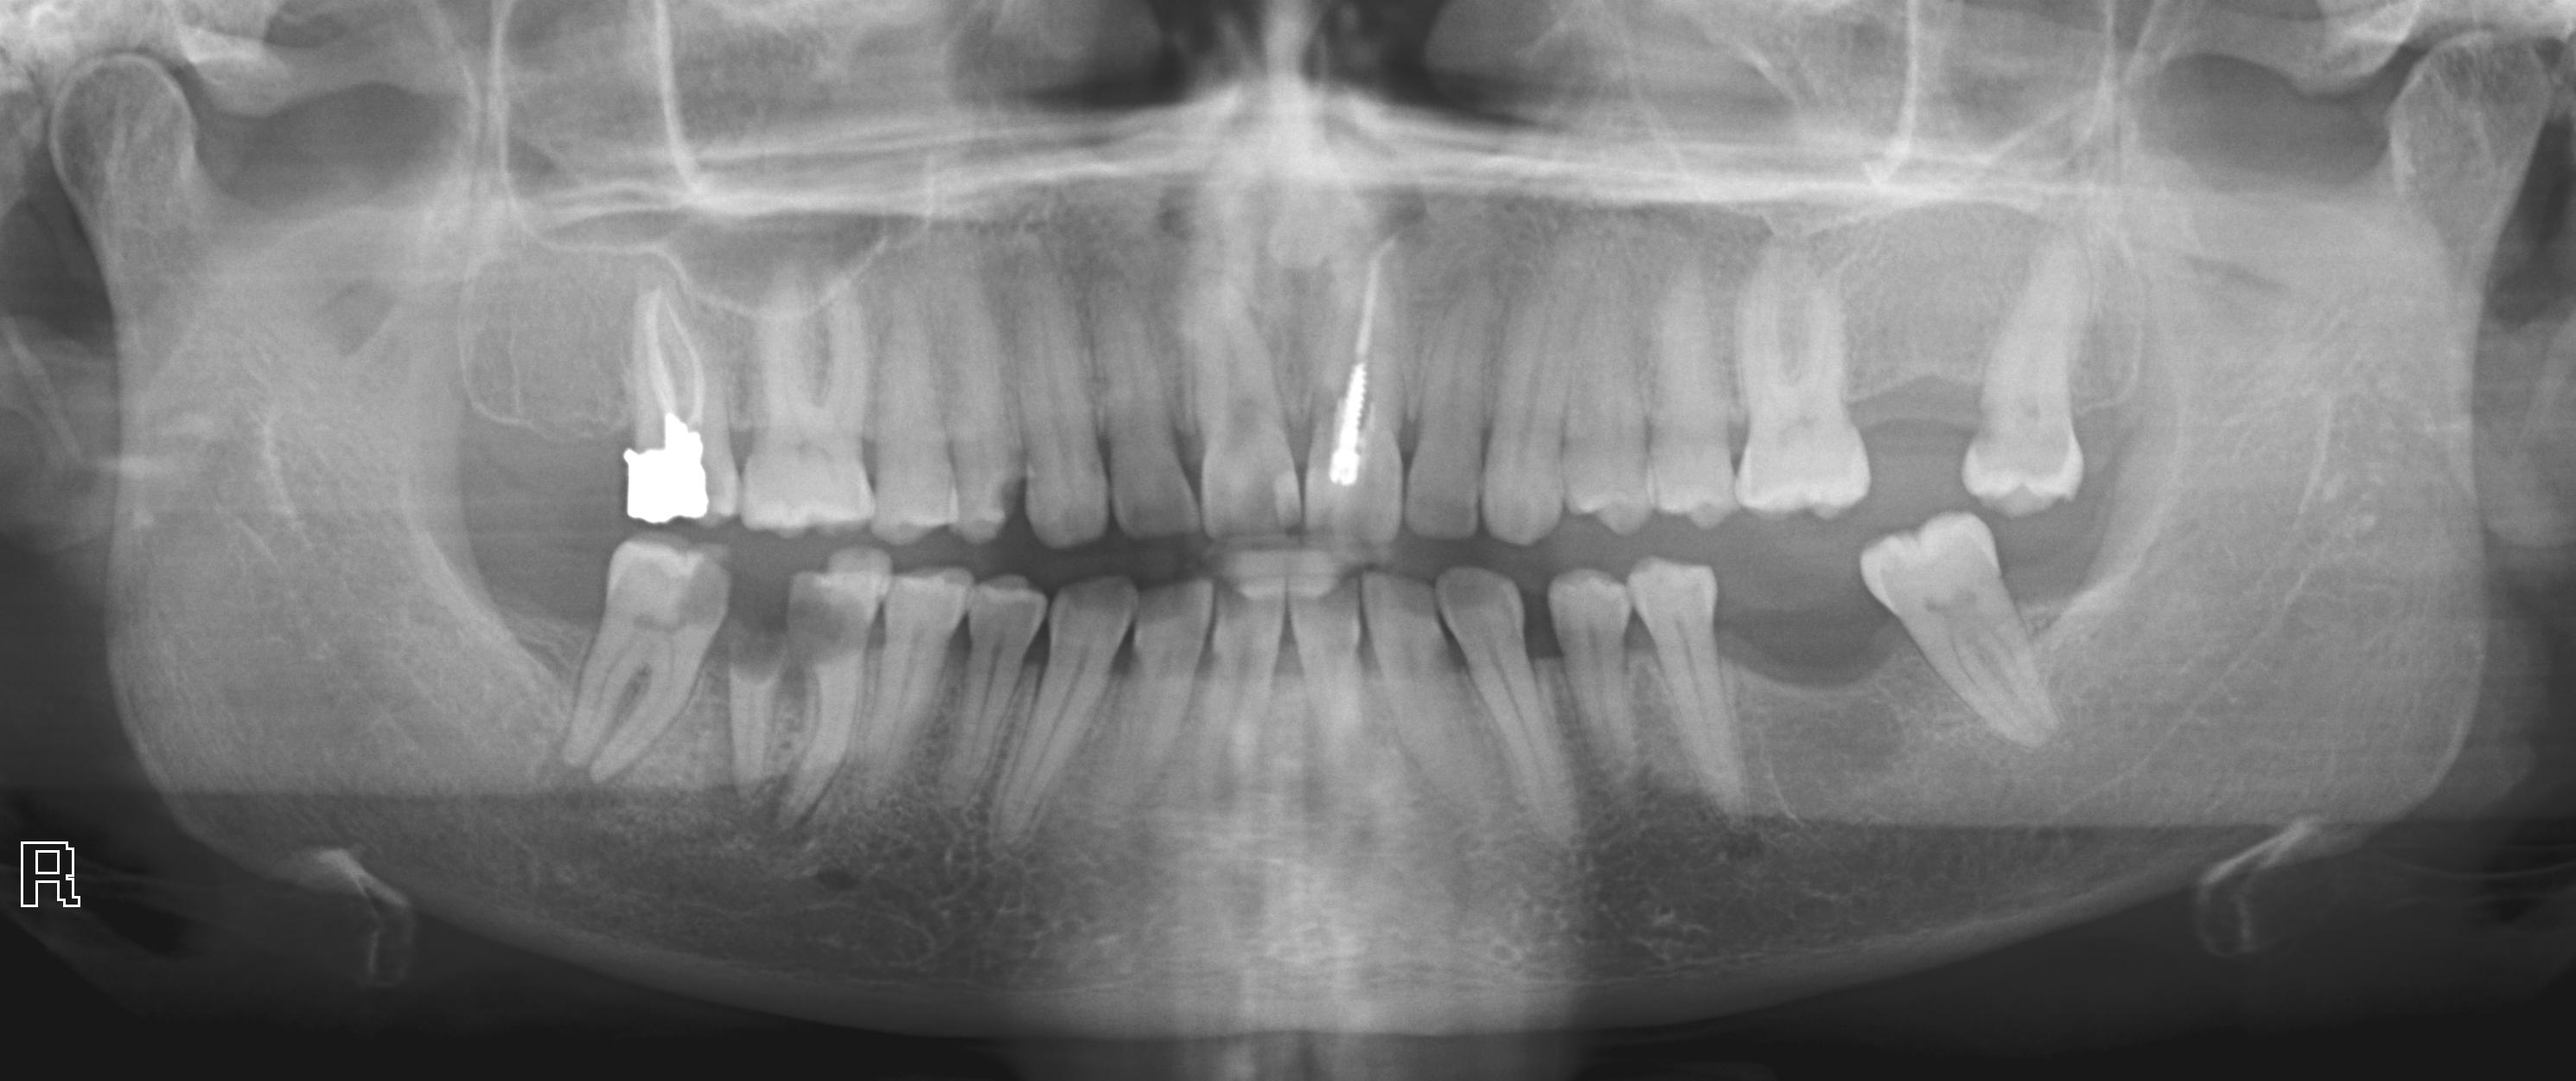Çürük: (608, 390, 724, 542), (1317, 348, 1388, 502)
Çürük Bölgesi: (673, 559, 745, 629), (798, 583, 863, 657), (734, 613, 799, 688), (989, 475, 1049, 545)
